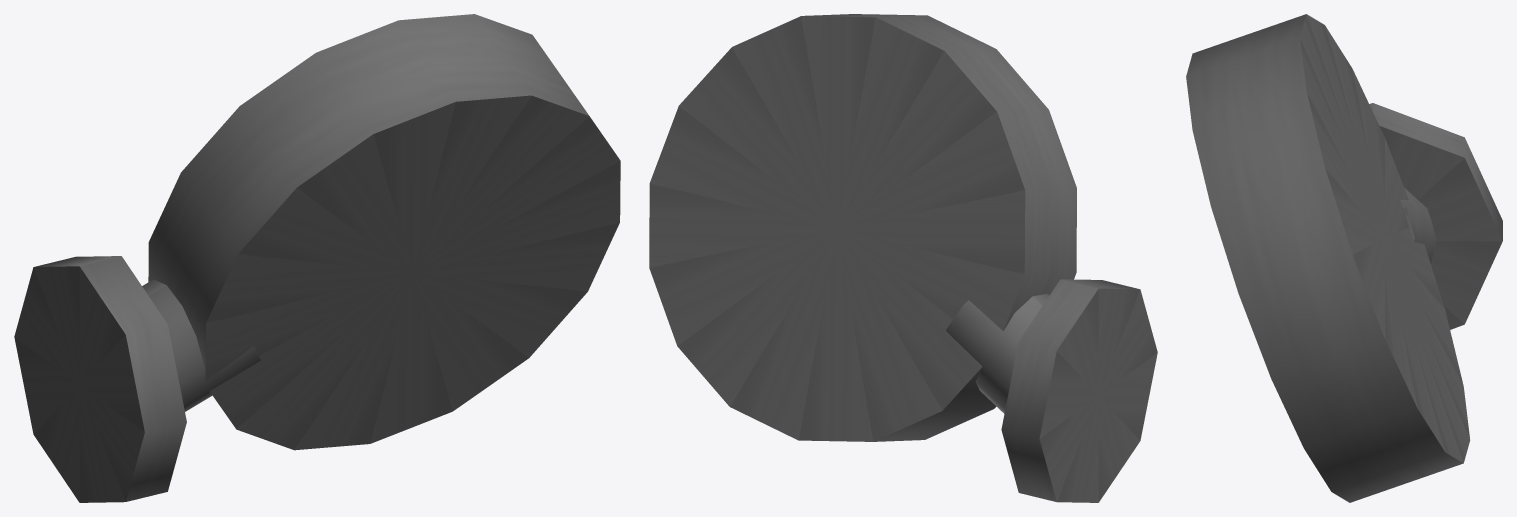
Rendered from mastarmcurve_10x2_c0_west.obj.
3 renders of one model, left to right at view 1: azimuth 30°, elevation 25°; view 2: azimuth 150°, elevation 25°; view 3: azimuth 270°, elevation 25°, orthographic. The views are drawn at different scales.
Visible parts, largest first — view 1: mastarm_10x2_c0_west; view 2: mastarm_10x2_c0_west; view 3: mastarm_10x2_c0_west.
Boxes of the visible parts, x1,y1,x2,y2 form: mastarm_10x2_c0_west: (14,14,620,502); mastarm_10x2_c0_west: (649,14,1157,502); mastarm_10x2_c0_west: (1186,14,1502,502).
Size of the model in its own units: 0.8654 by 0.7508 by 0.487.
